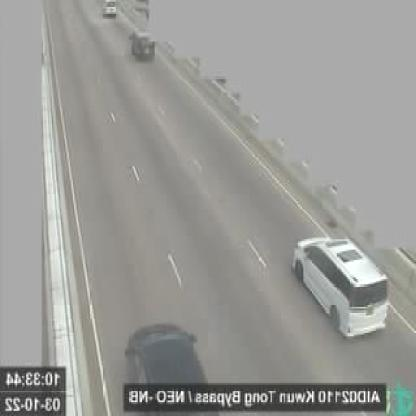Car: (294, 234, 386, 333), (129, 324, 213, 383), (132, 31, 154, 61)
